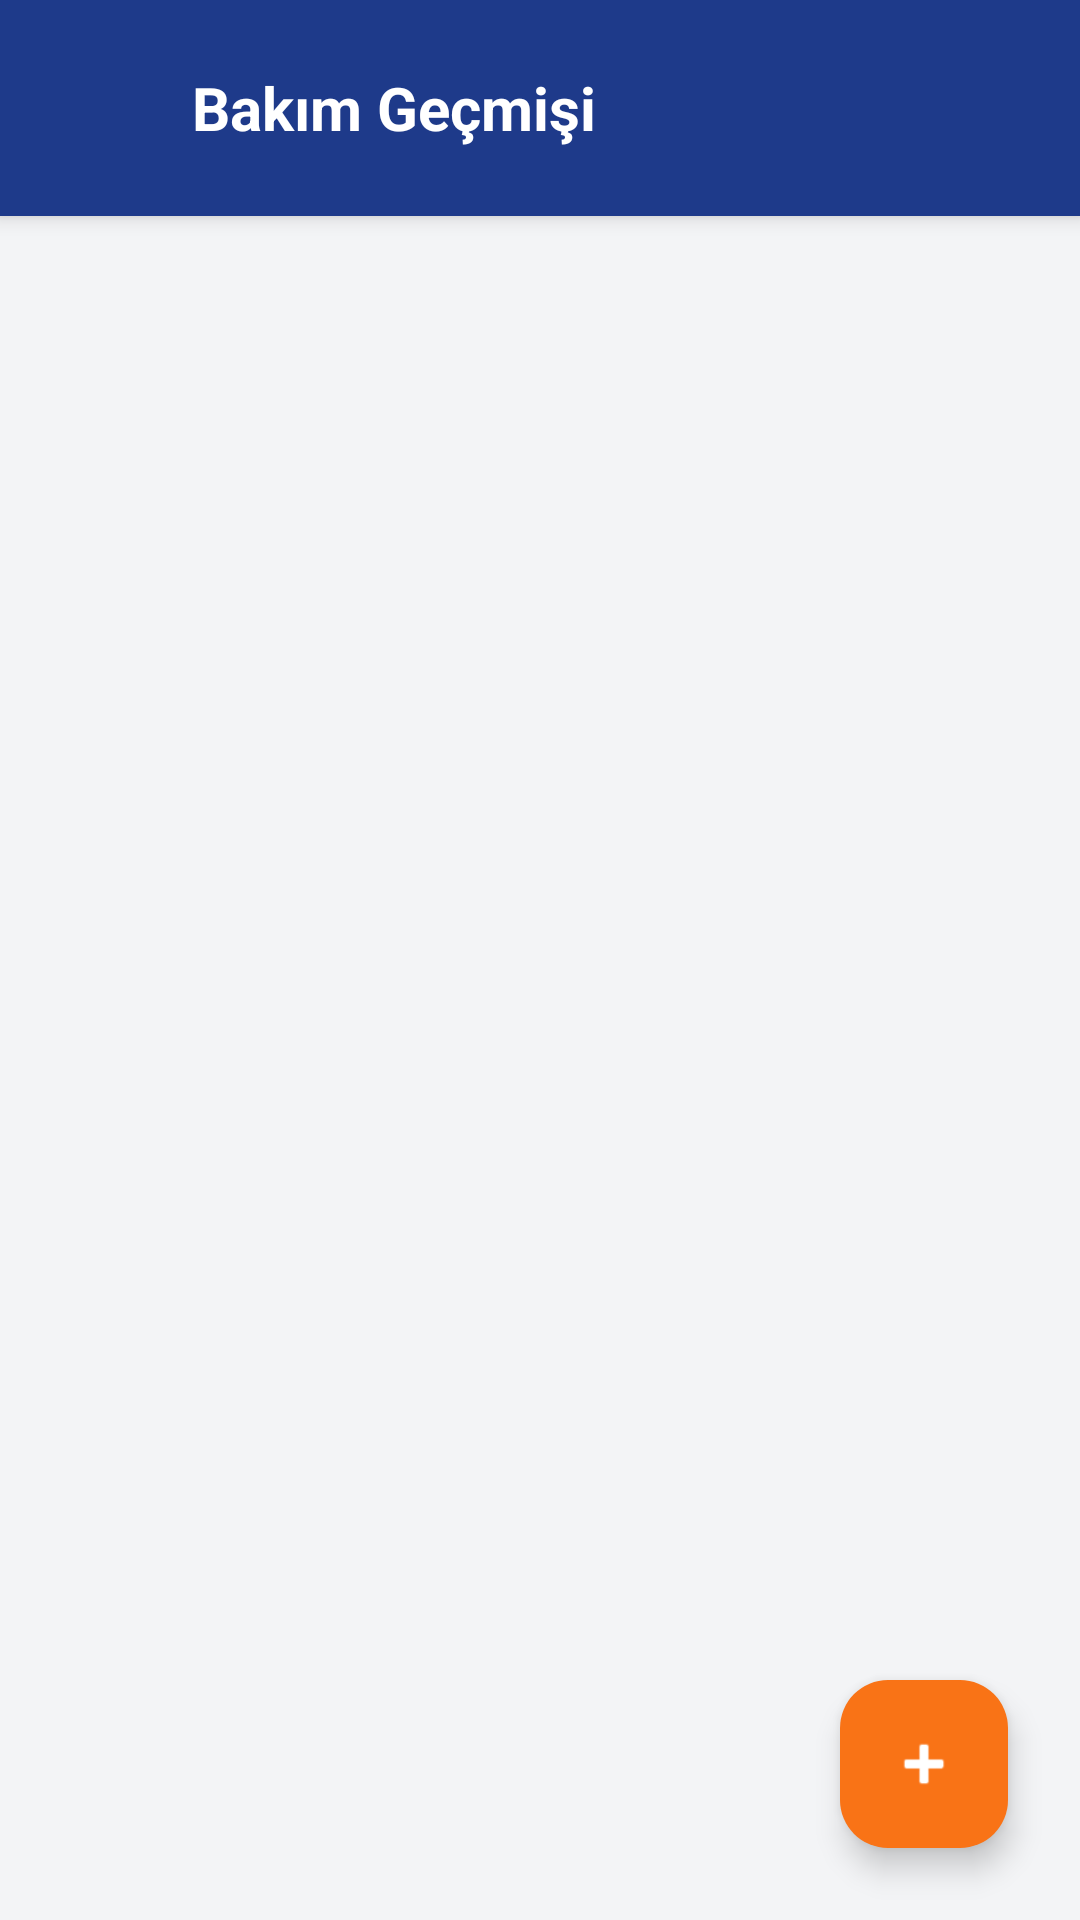

Screen size 1080px×1920px. Icon name, then its box in pixels as (x1, y1, x2, y2):
add: (840, 1680, 1008, 1848)
